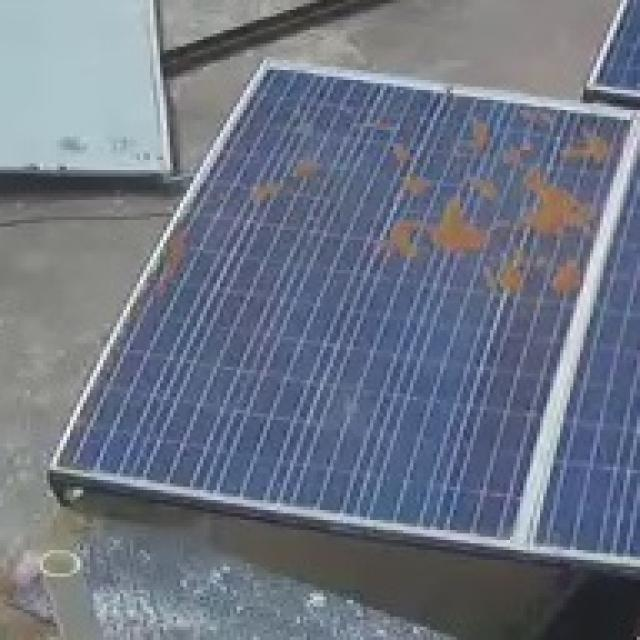Dusty: (367, 157, 491, 256), (492, 245, 582, 303), (517, 176, 589, 241), (242, 151, 326, 205), (552, 119, 614, 175), (502, 106, 551, 170), (344, 113, 416, 154), (454, 108, 496, 151), (162, 232, 191, 287)
